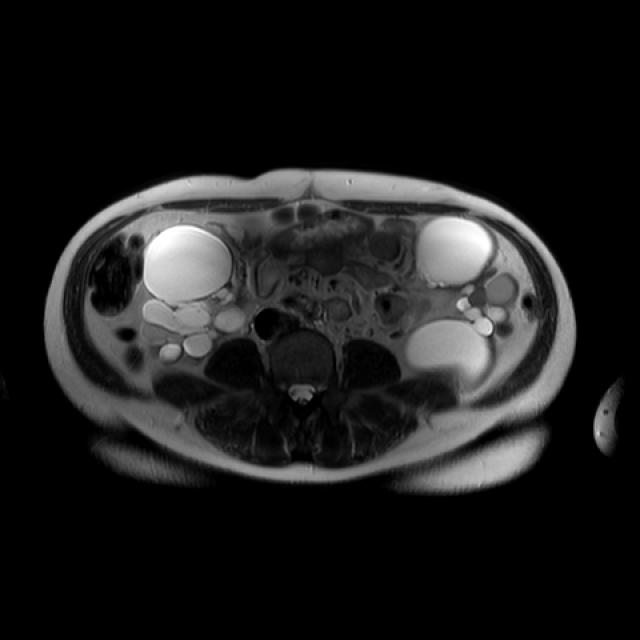sag: (142, 224, 251, 364)
sol: (404, 218, 521, 381)
